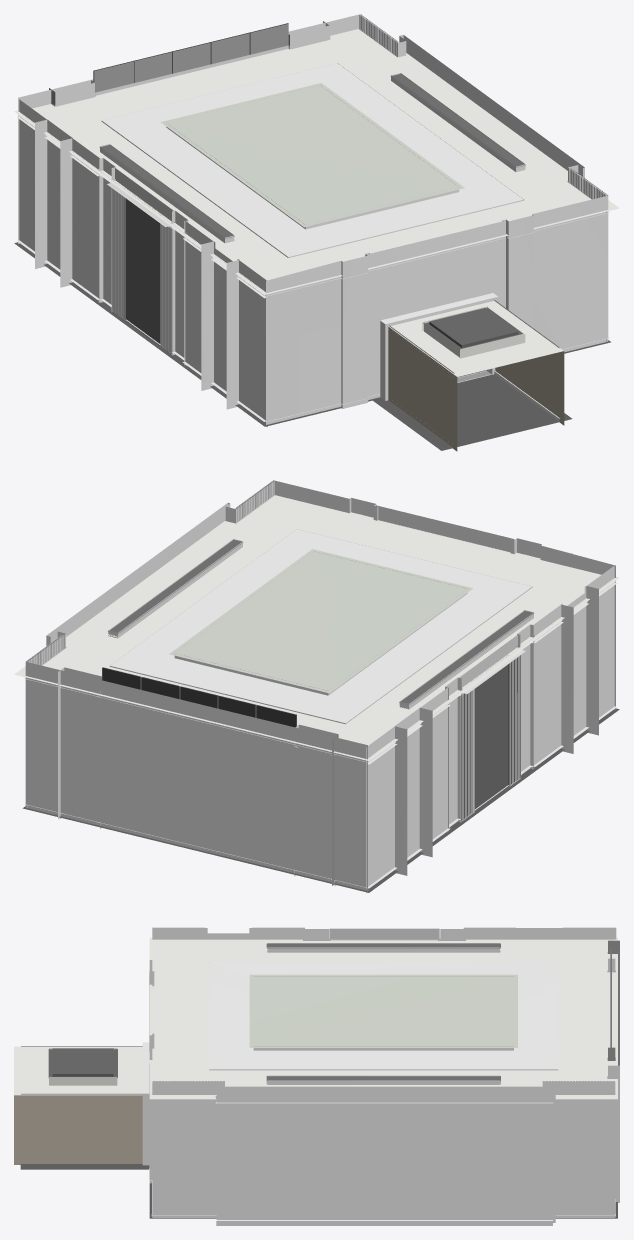
File: SM_H_Building_Tide_Loungehall_14_ATLAS.fbx
3 views of the same model, one above another, from view 1: azimuth 30°, elevation 25°; view 2: azimuth 150°, elevation 25°; view 3: azimuth 270°, elevation 25° (orthographic). The views are drawn at different scales.
Visible parts, largest first — view 1: SM_H_Building_Tide_Loungehall_14_ATLAS; view 2: SM_H_Building_Tide_Loungehall_14_ATLAS; view 3: SM_H_Building_Tide_Loungehall_14_ATLAS.
Part boxes in pixels (left/top/right/bottom): SM_H_Building_Tide_Loungehall_14_ATLAS: left=14, top=14, right=619, bottom=451; SM_H_Building_Tide_Loungehall_14_ATLAS: left=14, top=480, right=619, bottom=893; SM_H_Building_Tide_Loungehall_14_ATLAS: left=14, top=927, right=619, bottom=1225.
Bounding box in the file's own units: 1396 × 2136 × 617.
